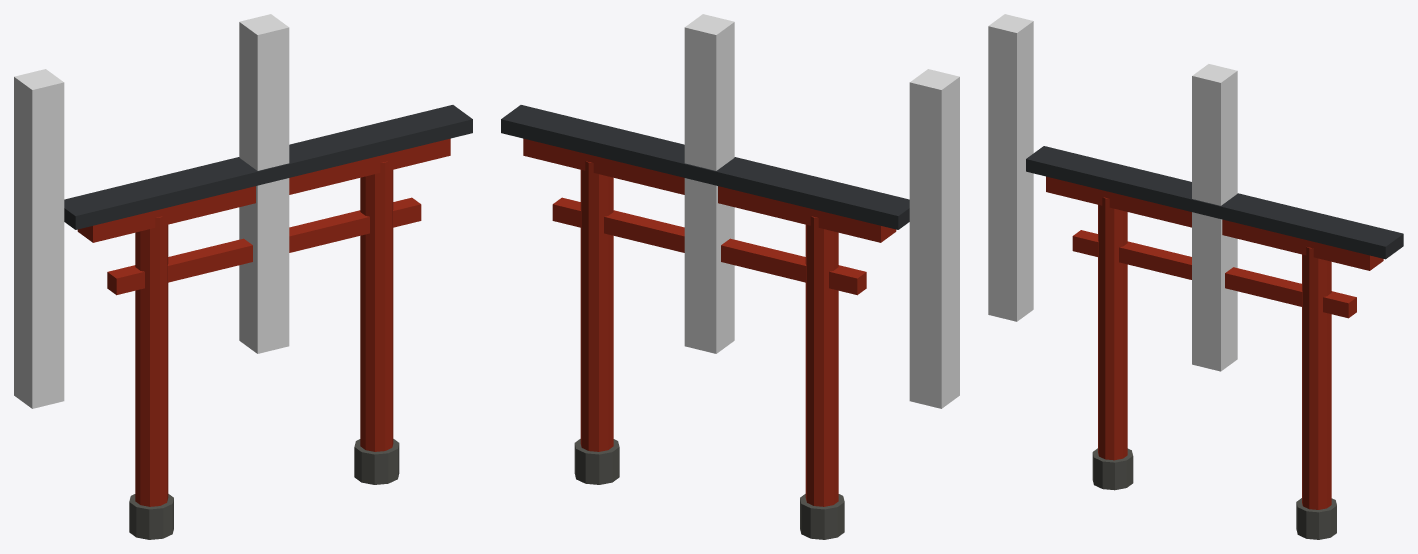
The model's file is ToriiSmall.fbx.
3 views of the same model, side by side, from view 1: azimuth 30°, elevation 25°; view 2: azimuth 150°, elevation 25°; view 3: azimuth 330°, elevation 25° (orthographic). The views are drawn at different scales.
Visible parts, largest first — view 1: ToriiSmall, COL_ToriiSmall_0, COL_ToriiSmall_1; view 2: ToriiSmall, COL_ToriiSmall_0, COL_ToriiSmall_1; view 3: ToriiSmall, COL_ToriiSmall_0, COL_ToriiSmall_1.
Part boxes in pixels (x1,y1,x2,y2): ToriiSmall: (64, 105, 472, 539); COL_ToriiSmall_0: (14, 69, 64, 408); COL_ToriiSmall_1: (239, 14, 289, 353); ToriiSmall: (501, 105, 909, 539); COL_ToriiSmall_0: (909, 69, 959, 408); COL_ToriiSmall_1: (684, 14, 734, 353); ToriiSmall: (1026, 146, 1403, 539); COL_ToriiSmall_0: (988, 14, 1033, 321); COL_ToriiSmall_1: (1192, 64, 1237, 371).
Size of the model in its own units: 3.32 by 3.45 by 0.3.
